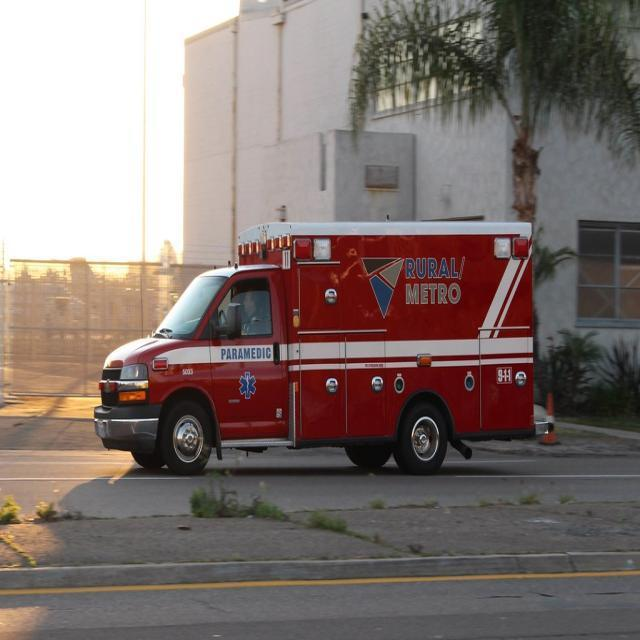emergency: (95, 202, 293, 484)
